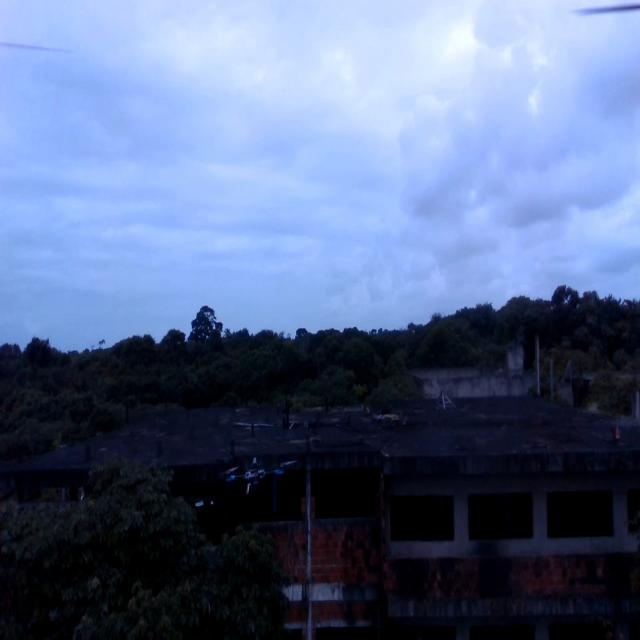-uav-: (208, 453, 302, 526)
